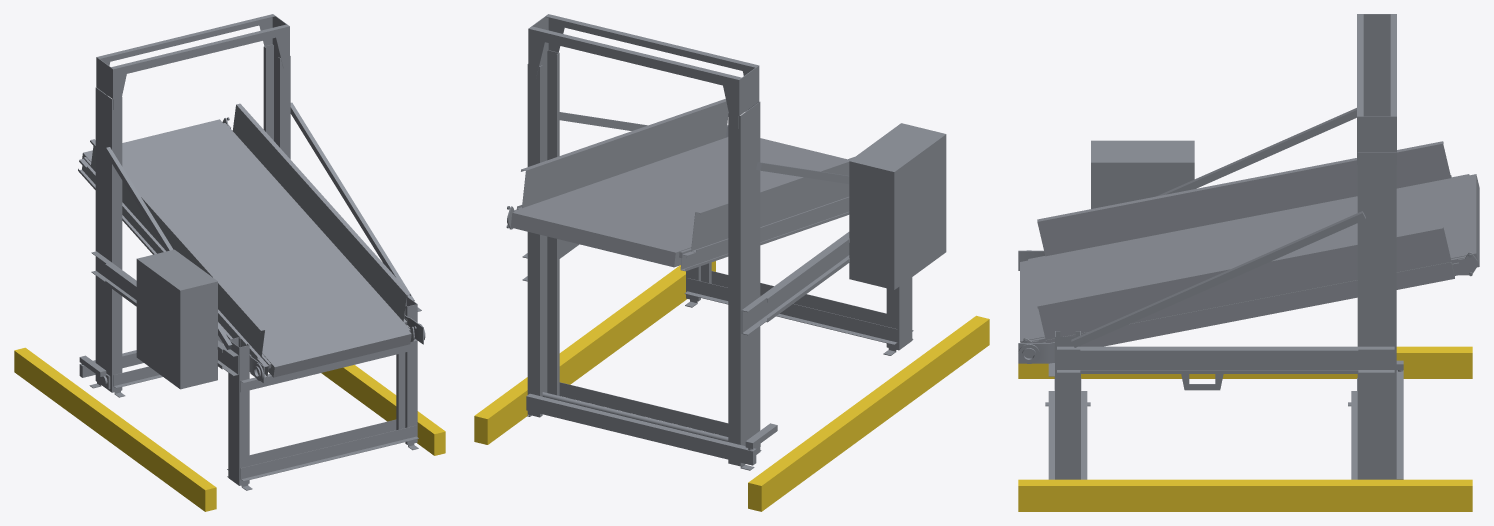
Rendered from vsu.glb.
The picture shows the model from 3 angles, left to right: view 1: azimuth 30°, elevation 25°; view 2: azimuth 150°, elevation 25°; view 3: azimuth 270°, elevation 25°; orthographic projection. The views are drawn at different scales.
Parts seen in each view (by area): view 1: VSU_Frame, VSU_LiftConveyor; view 2: VSU_Frame, VSU_LiftConveyor; view 3: VSU_Frame, VSU_LiftConveyor.
Boxes of the visible parts, left/top/right/bottom form: VSU_Frame: left=14, top=14, right=445, bottom=511; VSU_LiftConveyor: left=78, top=103, right=414, bottom=377; VSU_Frame: left=474, top=14, right=989, bottom=511; VSU_LiftConveyor: left=507, top=99, right=854, bottom=271; VSU_Frame: left=1018, top=14, right=1472, bottom=511; VSU_LiftConveyor: left=1020, top=141, right=1479, bottom=346.
Size of the model in its own units: 2.55 by 3.3 by 3.56.
